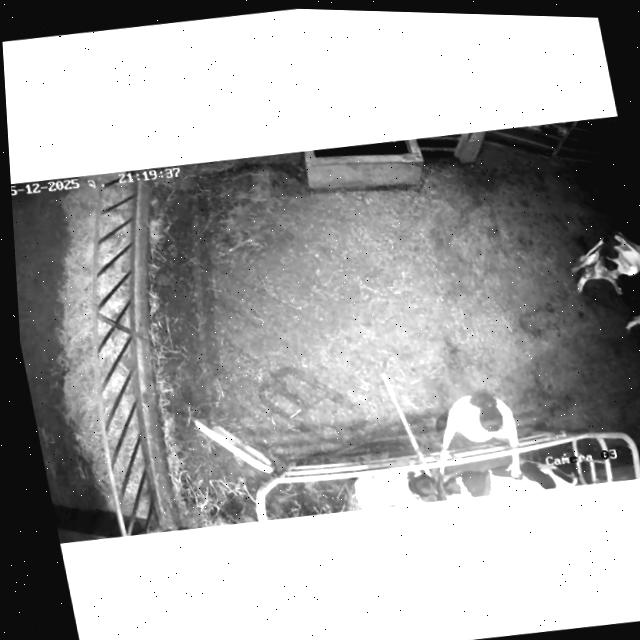stand: (537, 202, 640, 406)
